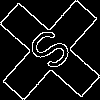S: (25, 25, 82, 81)
